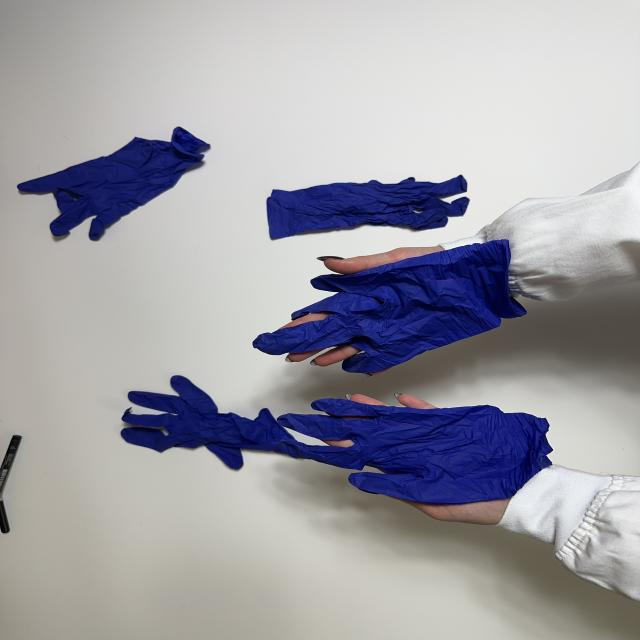glove_not_fitted: (273, 390, 559, 527), (250, 240, 531, 376)
